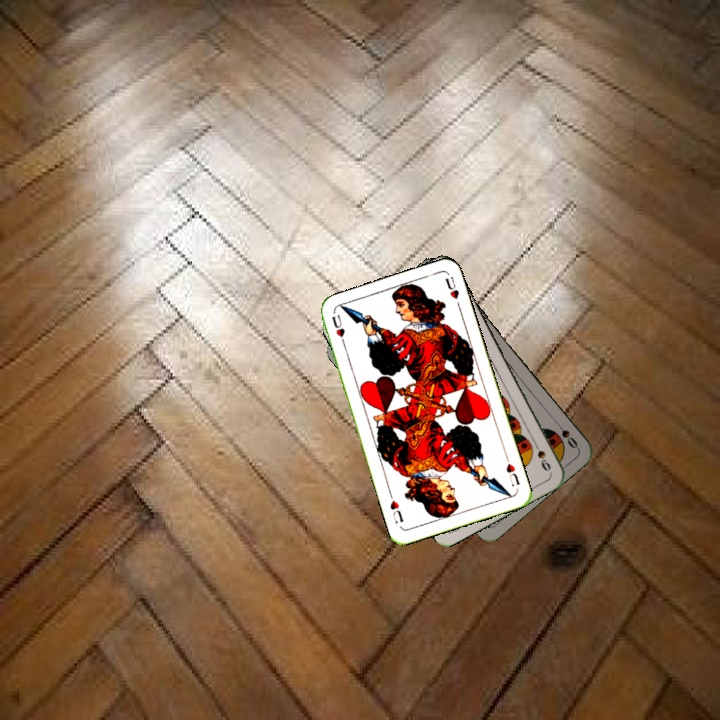HU: (328, 311, 348, 349), (502, 452, 522, 489)
S9: (529, 437, 553, 474)
SO: (551, 417, 580, 451)
